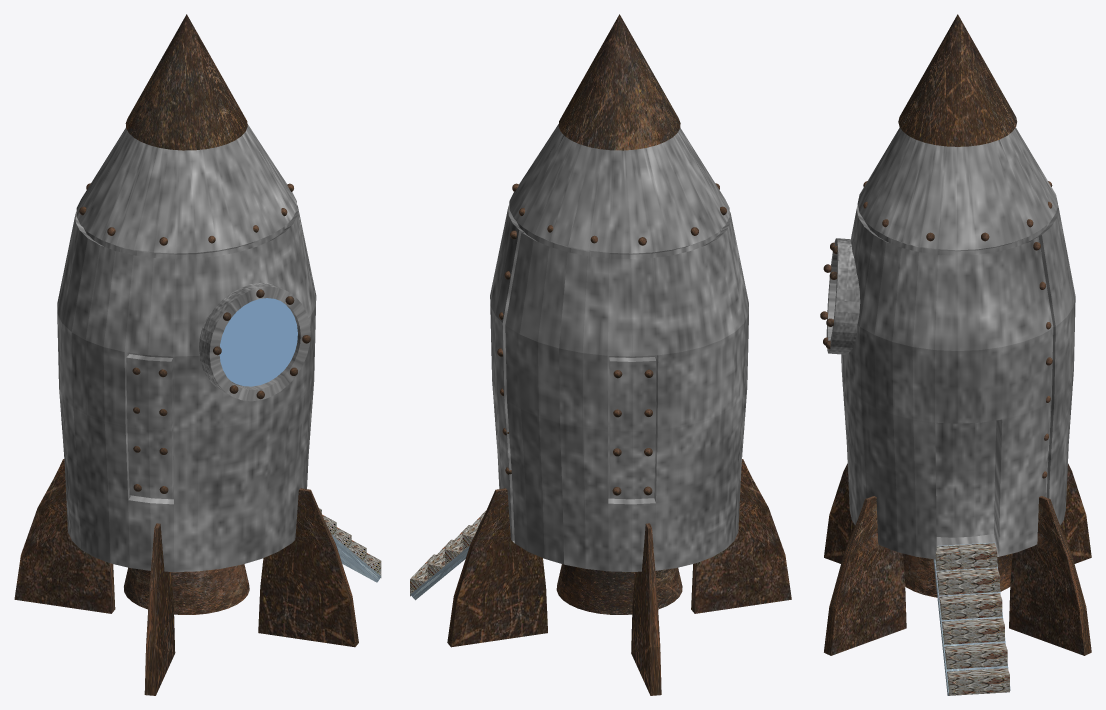
The model's file is Rocket.fbx.
The picture shows the model from 3 angles, left to right: view 1: azimuth 30°, elevation 25°; view 2: azimuth 150°, elevation 25°; view 3: azimuth 270°, elevation 25°; orthographic projection. The views are drawn at different scales.
Visible parts, largest first — view 1: Cylinder.012, Cube.034, Cone, Cylinder.014, Cylinder.013, Cylinder.015, Cube.036, Cube.035; view 2: Cylinder.012, Cube.034, Cone, Cylinder.015, Cube.036, Cube.035; view 3: Cylinder.012, Cube.034, Cube.036, Cone, Cylinder.013, Cylinder.015, Cube.035.
Boxes of the visible parts, x1,y1,x2,y2 form: Cylinder.012: (57,124,316,571); Cube.034: (14,459,358,695); Cone: (125,14,247,150); Cylinder.014: (219,298,297,386); Cylinder.013: (199,283,310,401); Cylinder.015: (124,564,249,614); Cube.036: (319,508,381,577); Cube.035: (331,535,381,582); Cylinder.012: (490,124,748,571); Cube.034: (447,459,791,695); Cone: (558,14,680,150); Cylinder.015: (556,564,682,614); Cube.036: (410,510,486,596); Cube.035: (410,546,469,600); Cylinder.012: (841,127,1075,559); Cube.034: (824,463,1091,655); Cube.036: (935,543,1009,695); Cone: (898,14,1017,146); Cylinder.013: (826,238,860,354); Cylinder.015: (903,553,1012,597); Cube.035: (933,542,1010,695).
Bounding box in the file's own units: 438 × 836 × 346.
